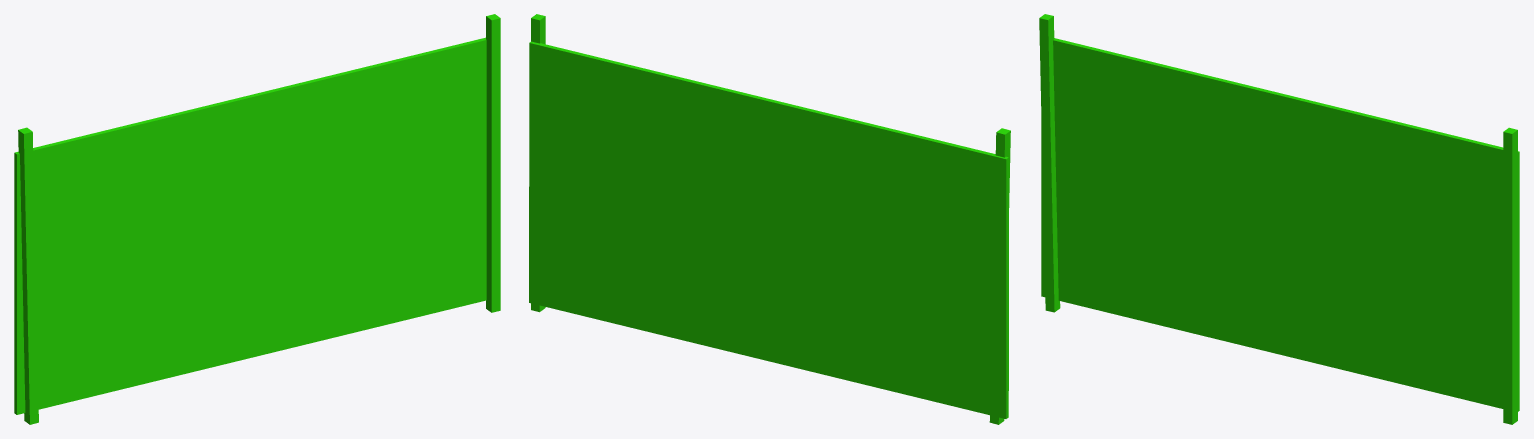
Rendered from Signboard_Wood_03.fbx.
The picture shows the model from 3 angles, left to right: view 1: azimuth 30°, elevation 25°; view 2: azimuth 150°, elevation 25°; view 3: azimuth 330°, elevation 25°; orthographic projection.
Parts seen in each view (by area): view 1: Signboard_Wood_03; view 2: Signboard_Wood_03; view 3: Signboard_Wood_03.
Boxes of the visible parts, left/top/right/bottom form: Signboard_Wood_03: left=14, top=14, right=500, bottom=424; Signboard_Wood_03: left=529, top=14, right=1010, bottom=424; Signboard_Wood_03: left=1039, top=14, right=1519, bottom=424.
Size of the model in its own units: 280 by 164 by 7.94.
